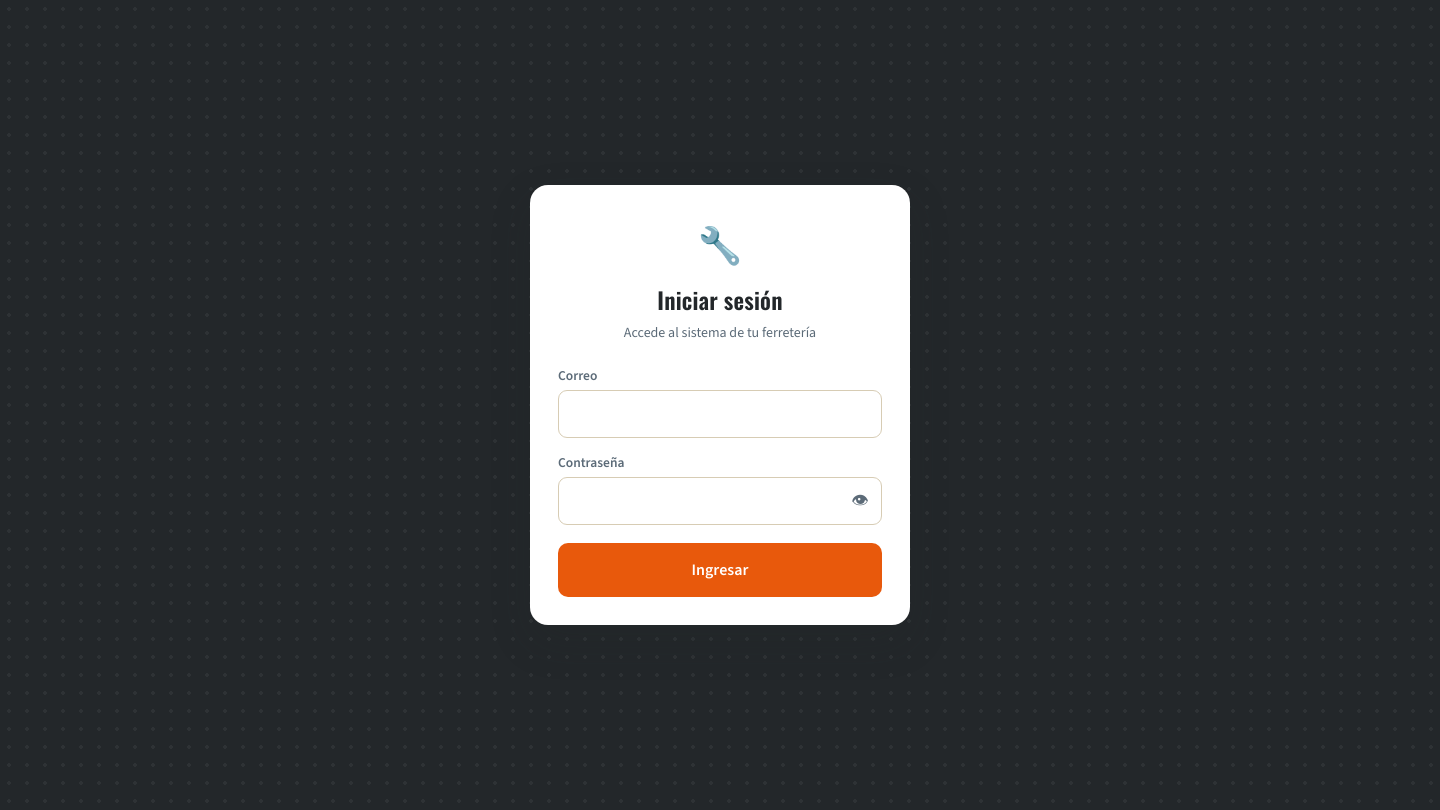
Scenario: Login › avisa cuando las credenciales son incorrectas
Type "vendedor@ferreteria.test" into the field labelled "Correo" at (720, 414), box [558, 390, 882, 438]
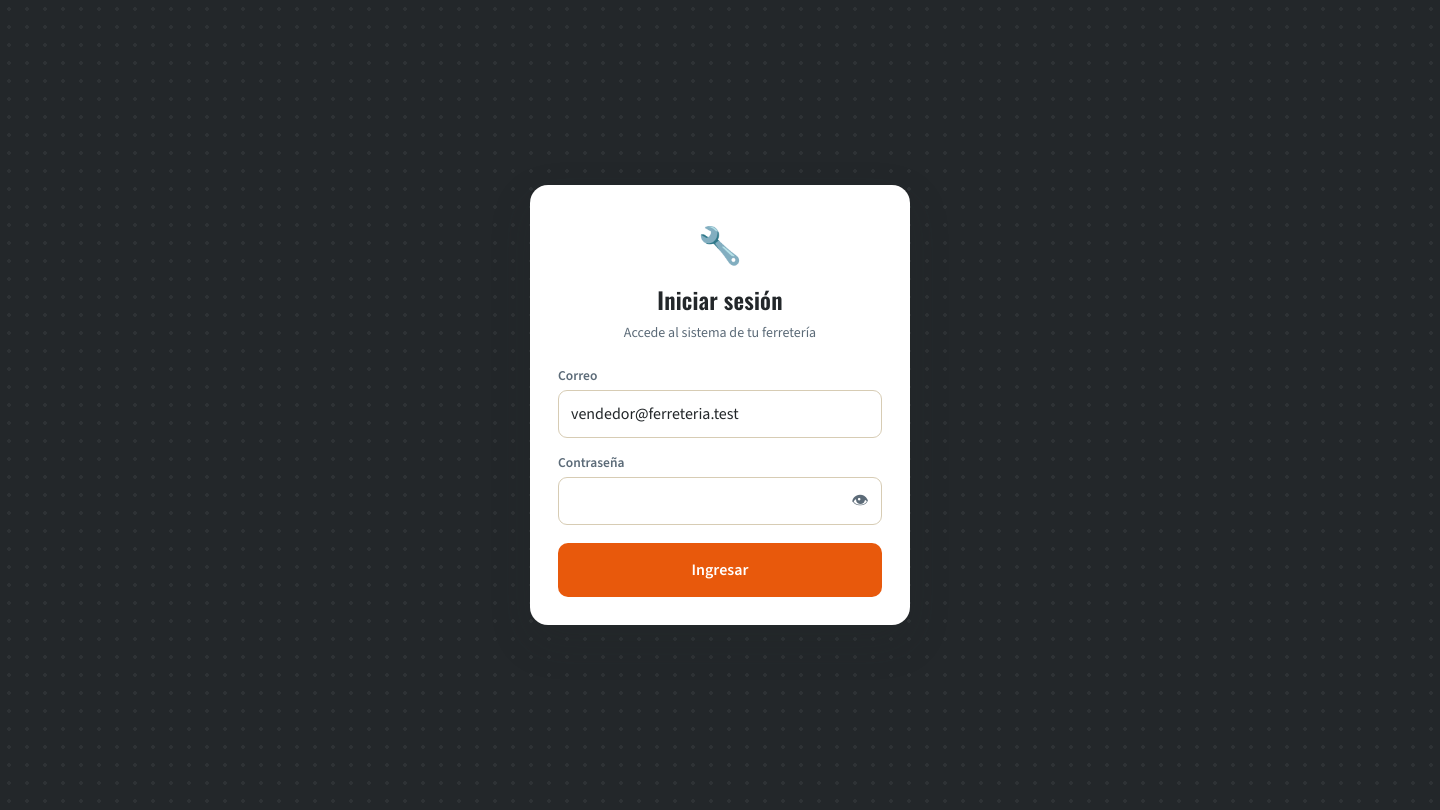
Type "equivocada" into the password field labelled "Contraseña" at (720, 501), box [558, 477, 882, 525]
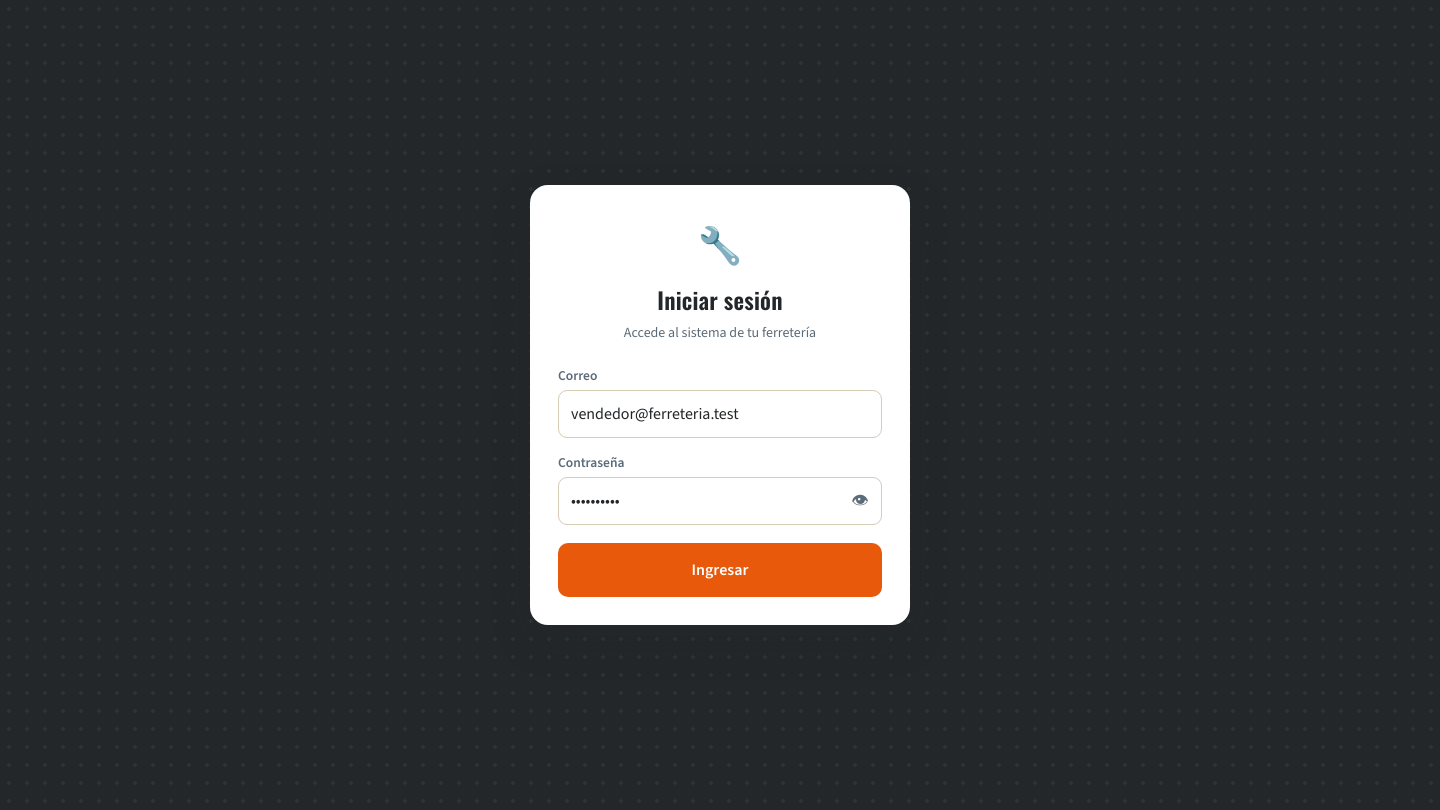
Click the button "Ingresar" at (720, 570), box [558, 543, 882, 597]
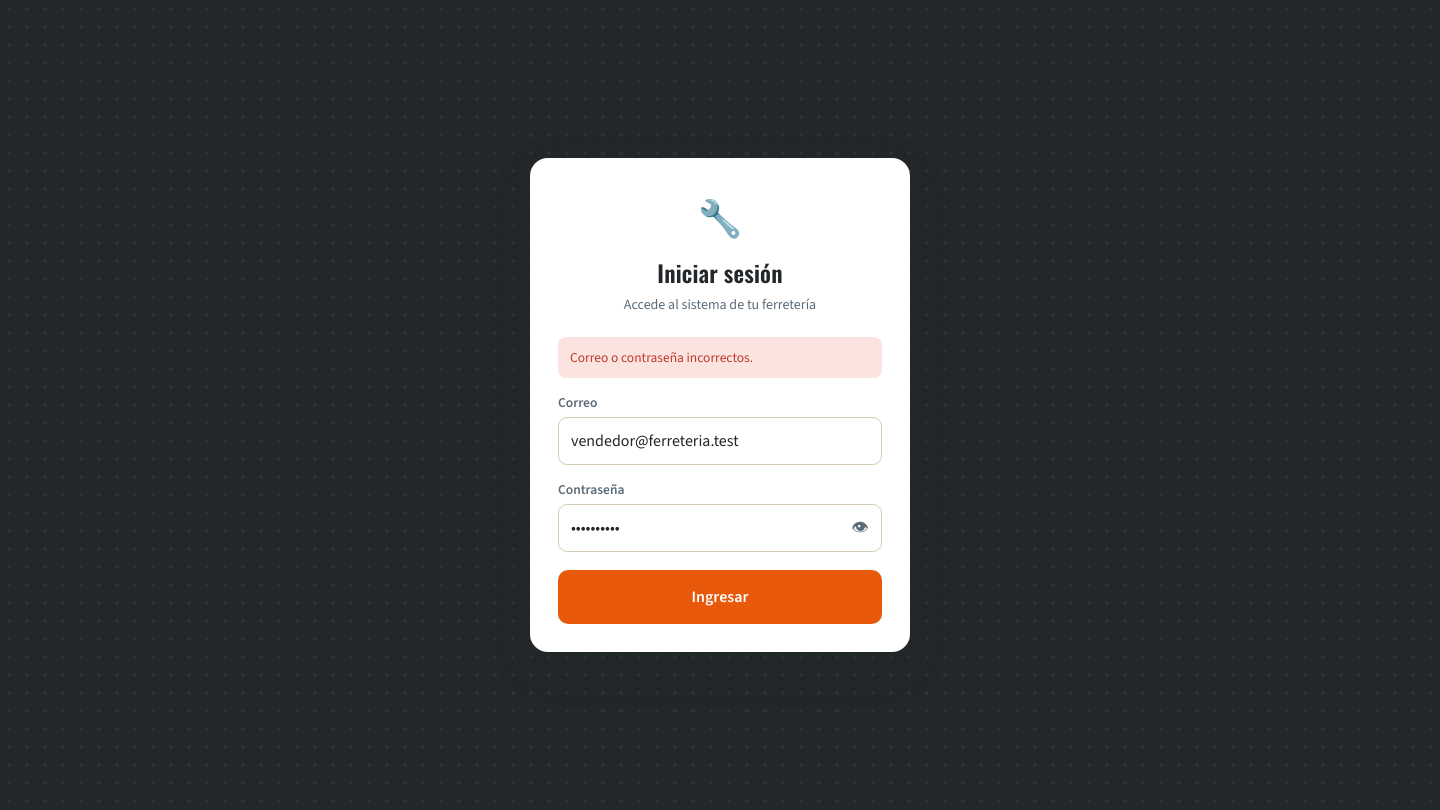
Check: the text "Correo o contraseña incorrectos." is shown, box [558, 337, 882, 378]
